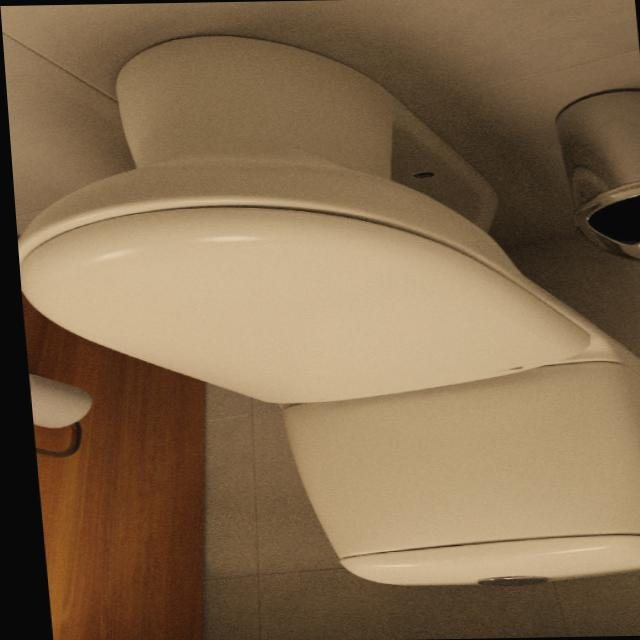toilet: (2, 28, 640, 594)
